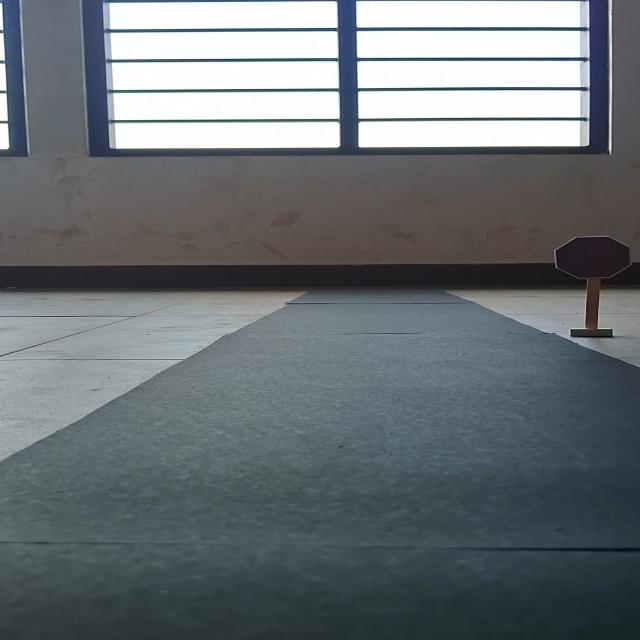Stop: (553, 236, 633, 281)
